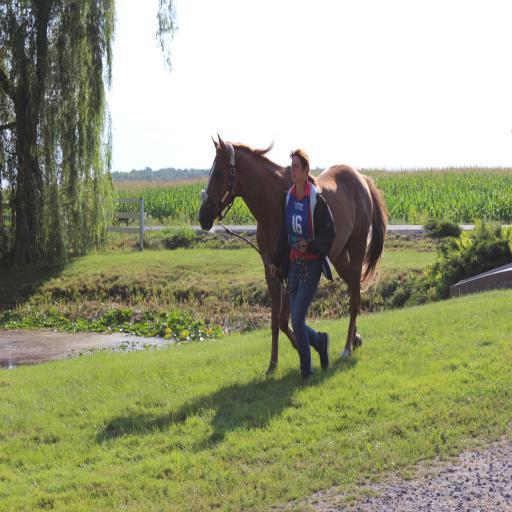Horse: (198, 124, 392, 385)
